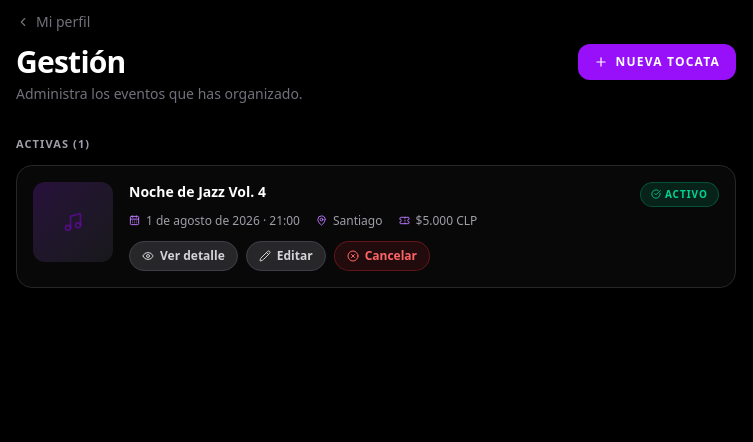
Test: GestionTocatas — recaudación y cancelación › muestra las entradas vendidas y la recaudación al expandir el detalle
Expected: the text "Noche de Jazz Vol. 4" is shown, [129,182,266,202]
Click the button "Ver detalle".
click(183, 256)  # box [129,240,238,270]
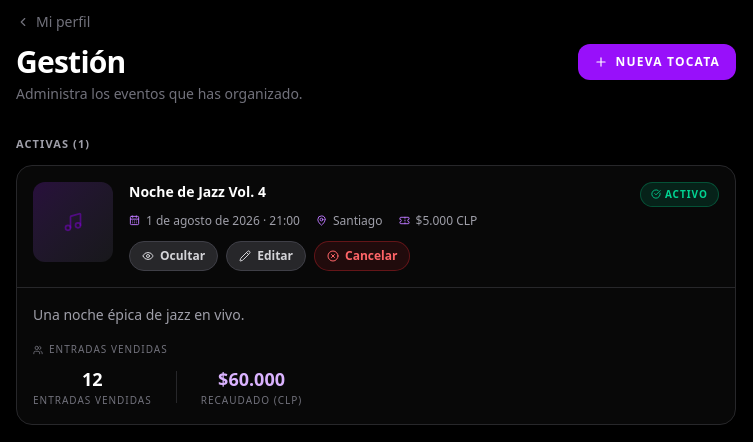
Result: the text "12" is shown at [82,367,103,391]
Result: the text "$60.000" is shown at [218,367,285,391]
Result: the text "Entradas vendidas" is shown at [33,342,168,356]
